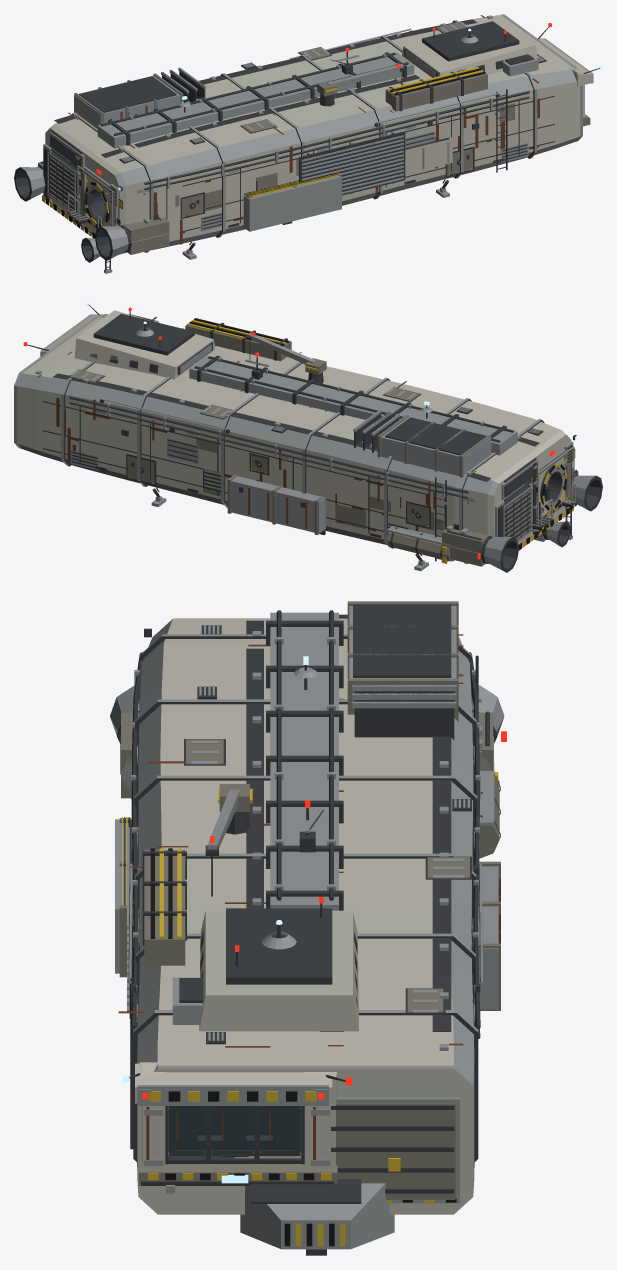
File: ship_hull.glb
The picture shows the model from 3 angles, top to bottom: view 1: azimuth 30°, elevation 25°; view 2: azimuth 150°, elevation 25°; view 3: azimuth 270°, elevation 25°; orthographic projection. The views are drawn at different scales.
Parts seen in each view (by area): view 1: ShipHull; view 2: ShipHull; view 3: ShipHull.
Boxes of the visible parts, bbox=[...] form: ShipHull: bbox=[14, 14, 602, 273]; ShipHull: bbox=[14, 302, 602, 572]; ShipHull: bbox=[110, 601, 506, 1255].
Bounding box in the file's own units: 26.3 × 6.76 × 8.96.
